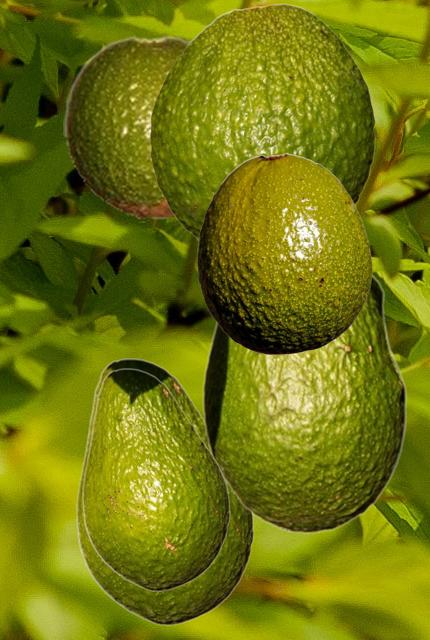avocado: (149, 3, 374, 240), (202, 273, 406, 533), (76, 358, 253, 624), (197, 153, 371, 353), (82, 368, 229, 590), (63, 35, 192, 219)
